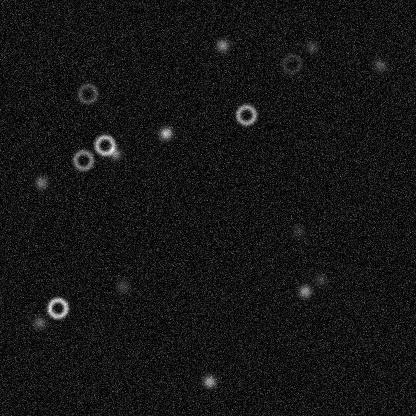Ring: (234, 102, 258, 126), (279, 51, 303, 75), (71, 148, 95, 172), (75, 81, 99, 105), (45, 295, 69, 319), (92, 133, 116, 157)
Spot: (290, 223, 306, 239), (312, 271, 328, 287), (31, 314, 47, 330), (201, 373, 217, 389), (33, 174, 49, 190), (303, 38, 319, 54), (157, 125, 173, 141), (107, 145, 123, 161), (371, 57, 387, 73), (214, 37, 230, 53), (296, 282, 312, 298), (114, 278, 130, 294)
